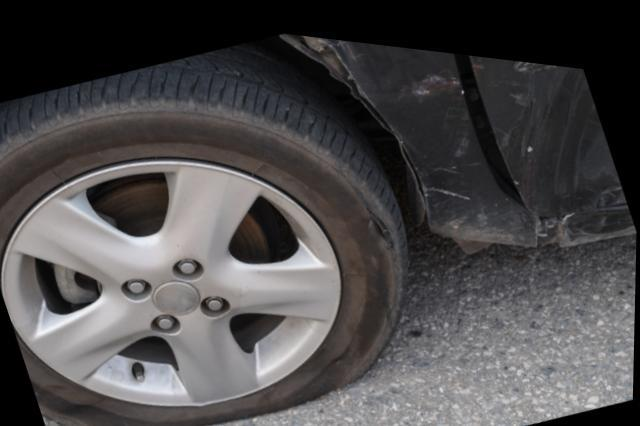tire flat: (0, 35, 411, 426)
